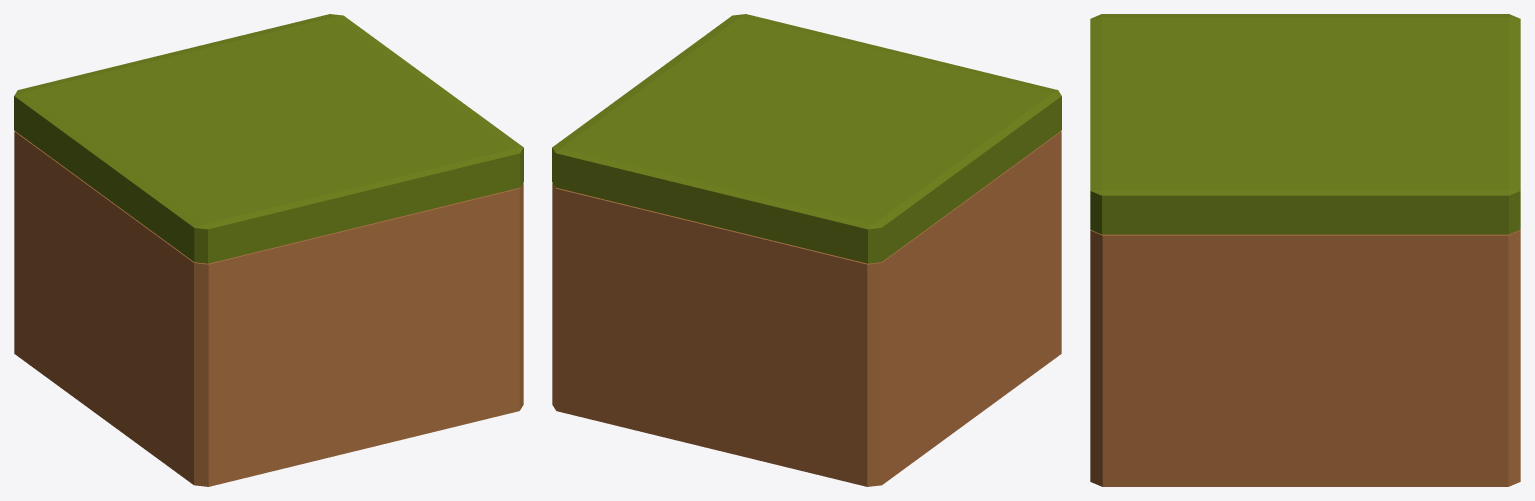
File: Tile_Green_Simple.fbx
The picture shows the model from 3 angles, left to right: view 1: azimuth 30°, elevation 25°; view 2: azimuth 150°, elevation 25°; view 3: azimuth 270°, elevation 25°; orthographic projection. The views are drawn at different scales.
Visible parts, largest first — view 1: Tile; view 2: Tile; view 3: Tile.
Boxes of the visible parts, x1=… form: Tile: x1=14, y1=14, x2=523, y2=486; Tile: x1=552, y1=14, x2=1061, y2=486; Tile: x1=1090, y1=14, x2=1520, y2=486.
Size of the model in its own units: 400 by 300 by 400.
